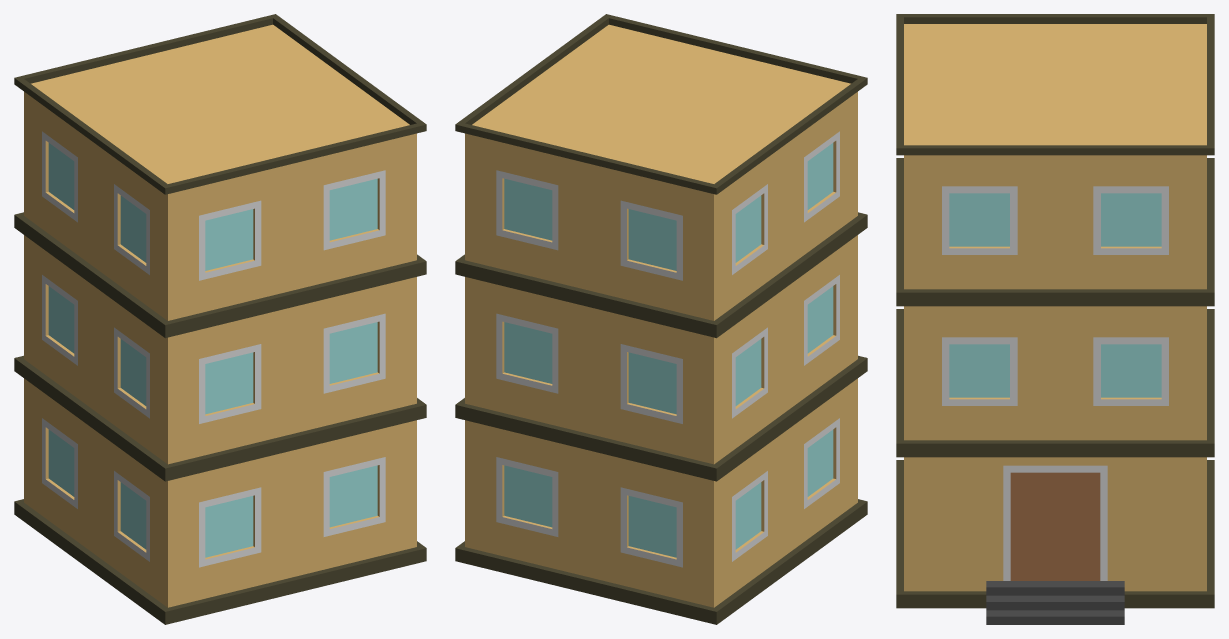
File: predio_banal.fbx
3 renders of one model, left to right at view 1: azimuth 30°, elevation 25°; view 2: azimuth 150°, elevation 25°; view 3: azimuth 270°, elevation 25°, orthographic. The views are drawn at different scales.
Parts seen in each view (by area): view 1: building_002; view 2: building_002; view 3: building_002.
Boxes of the visible parts, x1,y1,x2,y2 form: building_002: (14,14,426,624); building_002: (455,14,867,624); building_002: (896,14,1214,624).
Size of the model in its own units: 688 by 983 by 615.
